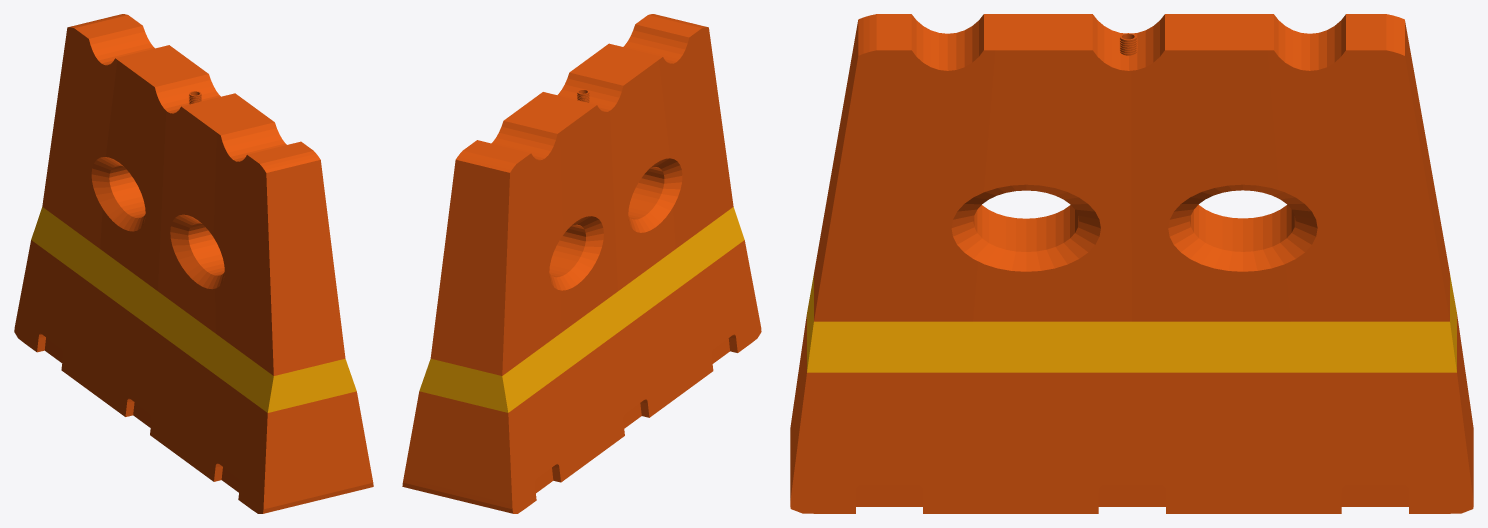
File: Traffic Barrier.fbx
The picture shows the model from 3 angles, left to right: view 1: azimuth 30°, elevation 25°; view 2: azimuth 150°, elevation 25°; view 3: azimuth 270°, elevation 25°; orthographic projection. The views are drawn at different scales.
Parts seen in each view (by area): view 1: Cube; view 2: Cube; view 3: Cube.
Boxes of the visible parts, <box> form: Cube: <box>14,14,373,513</box>; Cube: <box>402,14,761,513</box>; Cube: <box>790,14,1473,513</box>.
Size of the model in its own units: 159 by 440 by 614.
